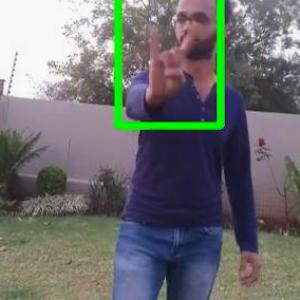takeoff-hand: (142, 18, 202, 108)
